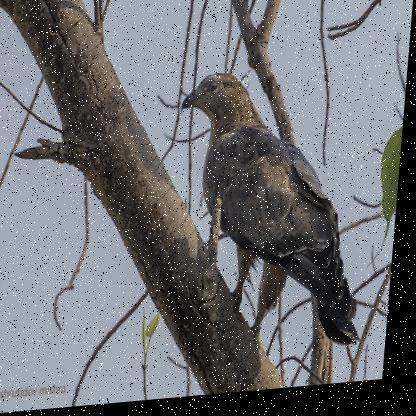Burung: (163, 68, 383, 368)
